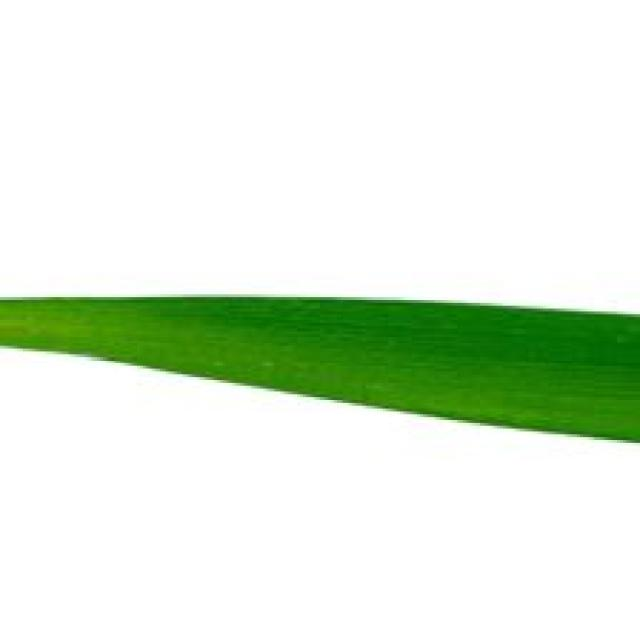Rice___Healthy_Rice_Plant: (0, 299, 637, 446)
